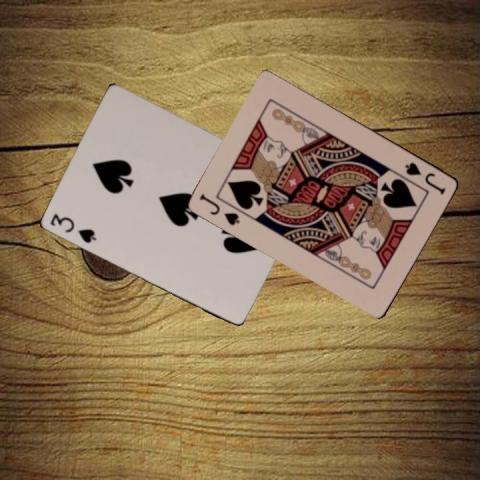3s: (46, 210, 96, 244)
Js: (402, 159, 447, 196), (197, 190, 242, 227)
